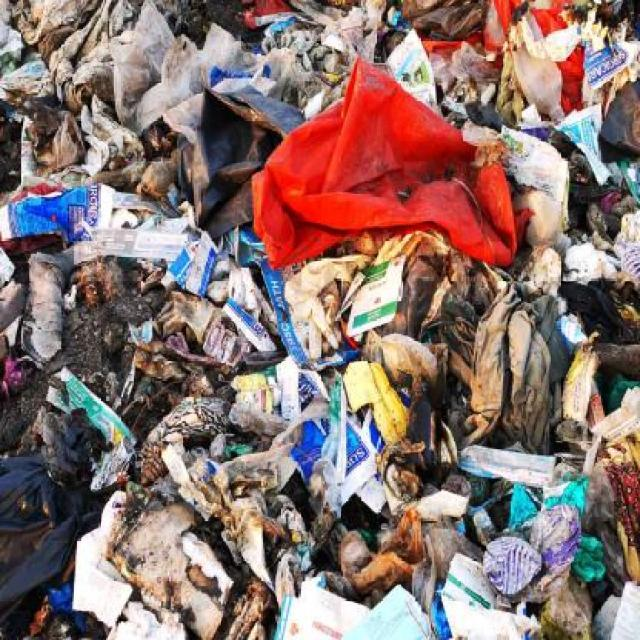garbage: (6, 11, 638, 634)
